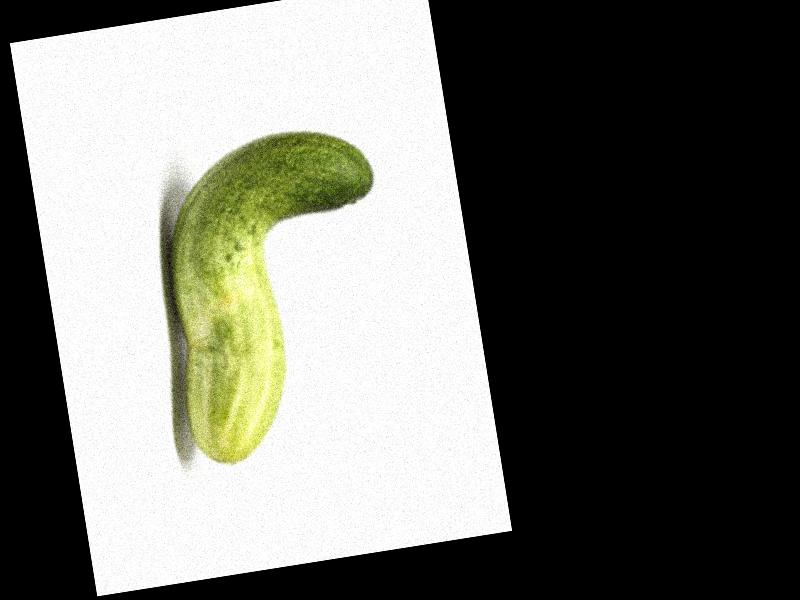Cucumber: (145, 119, 414, 470)
